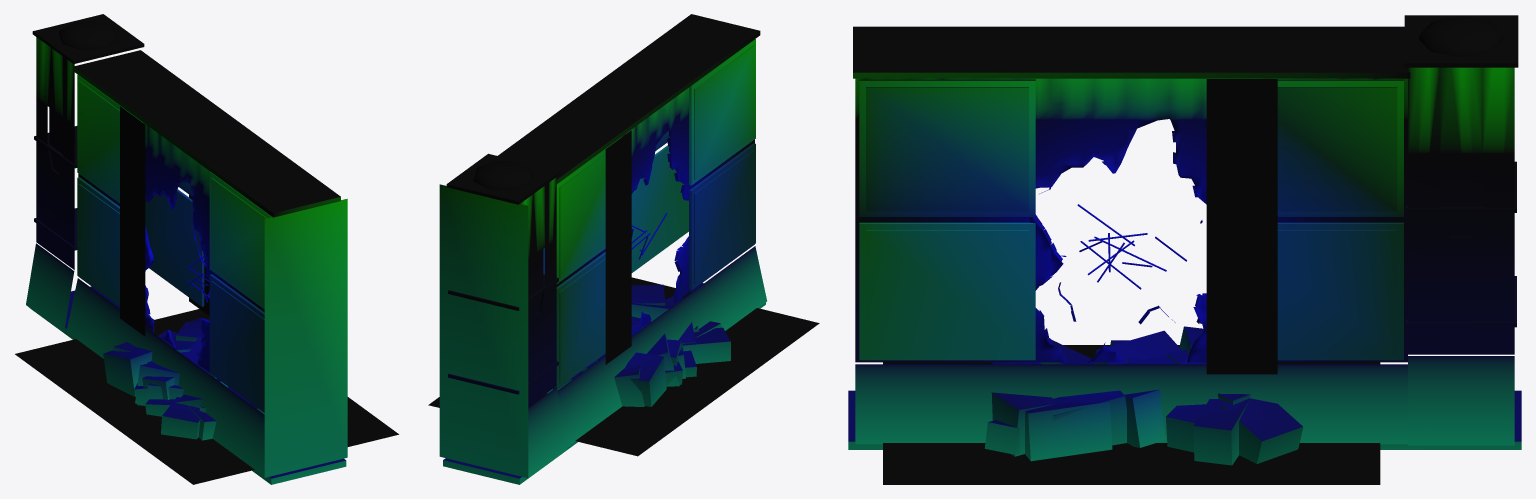
The model's file is s_heavywall_damaged.glb.
3 views of the same model, side by side, from view 1: azimuth 30°, elevation 25°; view 2: azimuth 150°, elevation 25°; view 3: azimuth 270°, elevation 25° (orthographic). The views are drawn at different scales.
Visible parts, largest first — view 1: lod0; view 2: lod0; view 3: lod0.
Boxes of the visible parts, x1,y1,x2,y2 form: lod0: (15, 14, 398, 484); lod0: (428, 14, 819, 484); lod0: (848, 15, 1521, 484).
Size of what is drawn, in the model's own units: 14 by 18.87 by 28.45.
